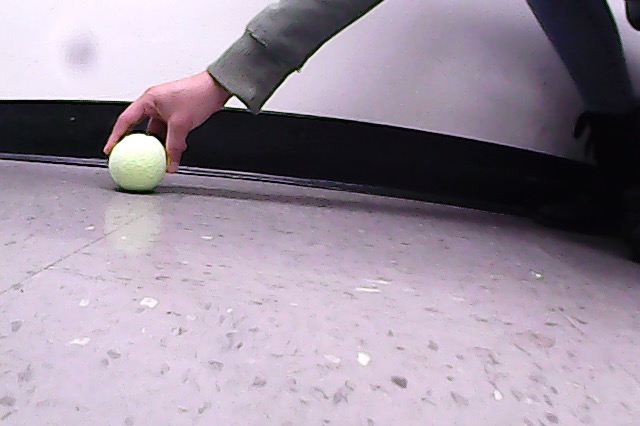ball: (110, 134, 168, 192)
